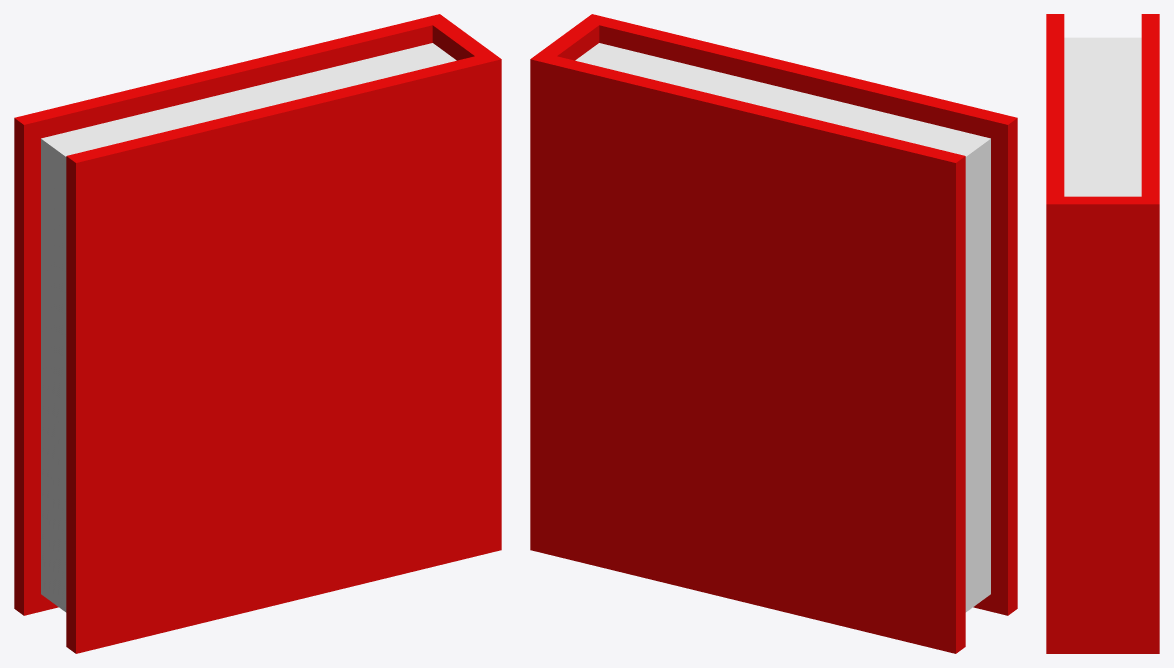
The model's file is Prop_book_002.FBX.
3 renders of one model, left to right at view 1: azimuth 30°, elevation 25°; view 2: azimuth 150°, elevation 25°; view 3: azimuth 270°, elevation 25°, orthographic. The views are drawn at different scales.
Visible parts, largest first — view 1: Prop_book_002; view 2: Prop_book_002; view 3: Prop_book_002.
Boxes of the visible parts, x1=… form: Prop_book_002: x1=14, y1=14, x2=501, y2=653; Prop_book_002: x1=530, y1=14, x2=1017, y2=653; Prop_book_002: x1=1046, y1=14, x2=1159, y2=653.
Bounding box in the file's own units: 0.2522 × 0.278 × 0.0635.
